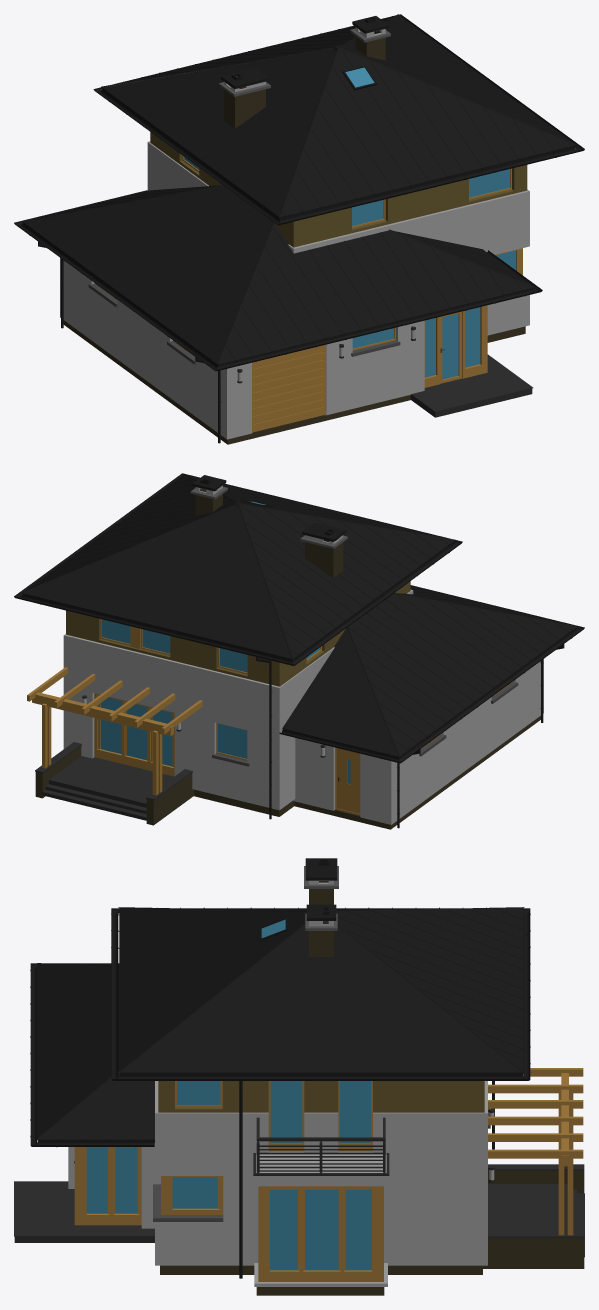
The model's file is Bambo_House.obj.
3 views of the same model, one above another, from view 1: azimuth 30°, elevation 25°; view 2: azimuth 150°, elevation 25°; view 3: azimuth 270°, elevation 25° (orthographic). The views are drawn at different scales.
Parts seen in each view (by area): view 1: roof_roof_metal_dark, body_house_body_house_plaster_white, gutters_gutters_metal_dark, body_house_body_house_wood_balls, garage_garage_wood_light, windows_windows_glass_window, stairs_stairs_plate_grey, fundametnts_fundametnts_foundation_mosaic, windows_windows_wood_light, ridge_ridge_metal_dark, chimneys_chimneys_foundation_mosaic, door_door_glass_window (+4 smaller); view 2: roof_roof_metal_dark, body_house_body_house_plaster_white, gutters_gutters_metal_dark, stairs_stairs_plate_grey, boards_boards_wood_light, body_house_body_house_wood_balls, windows_windows_glass_window, windows_windows_wood_light, door_door_glass_window, fundametnts_fundametnts_foundation_mosaic, wall_barrels_wall_barrels_foundation_mosaic, door_door_wood_light (+5 smaller); view 3: roof_roof_metal_dark, body_house_body_house_plaster_white, windows_windows_glass_window, windows_windows_wood_light, stairs_stairs_plate_grey, gutters_gutters_metal_dark, body_house_body_house_wood_balls, boards_boards_wood_light, wall_barrels_wall_barrels_foundation_mosaic, barrels_barrels_metal_grey, fundametnts_fundametnts_foundation_mosaic, ridge_ridge_metal_dark (+5 smaller).
Part boxes in pixels (<box>): roof_roof_metal_dark: <box>22,15,576,366</box>; body_house_body_house_plaster_white: <box>60,73,529,439</box>; gutters_gutters_metal_dark: <box>14,14,584,443</box>; body_house_body_house_wood_balls: <box>150,132,527,247</box>; garage_garage_wood_light: <box>252,344,325,432</box>; windows_windows_glass_window: <box>184,157,516,377</box>; stairs_stairs_plate_grey: <box>411,354,533,411</box>; fundametnts_fundametnts_foundation_mosaic: <box>63,320,525,444</box>; windows_windows_wood_light: <box>94,156,522,387</box>; ridge_ridge_metal_dark: <box>22,14,576,364</box>; chimneys_chimneys_foundation_mosaic: <box>224,31,385,128</box>; door_door_glass_window: <box>442,313,458,379</box>; roof_roof_metal_dark: <box>21,474,577,758</box>; body_house_body_house_plaster_white: <box>63,589,543,824</box>; gutters_gutters_metal_dark: <box>14,473,584,828</box>; stairs_stairs_plate_grey: <box>42,756,173,820</box>; boards_boards_wood_light: <box>27,667,202,795</box>; body_house_body_house_wood_balls: <box>66,581,410,686</box>; windows_windows_glass_window: <box>102,619,350,784</box>; windows_windows_wood_light: <box>100,619,512,815</box>; door_door_glass_window: <box>100,697,172,766</box>; fundametnts_fundametnts_foundation_mosaic: <box>194,716,540,829</box>; wall_barrels_wall_barrels_foundation_mosaic: <box>35,746,194,825</box>; door_door_wood_light: <box>94,693,174,776</box>; roof_roof_metal_dark: <box>36,907,523,1142</box>; body_house_body_house_plaster_white: <box>68,1081,487,1286</box>; windows_windows_glass_window: <box>86,1081,371,1270</box>; windows_windows_wood_light: <box>74,1081,383,1281</box>; stairs_stairs_plate_grey: <box>14,1181,584,1257</box>; gutters_gutters_metal_dark: <box>30,908,530,1278</box>; body_house_body_house_wood_balls: <box>158,1081,484,1112</box>; boards_boards_wood_light: <box>488,1068,583,1235</box>; wall_barrels_wall_barrels_foundation_mosaic: <box>483,1170,584,1268</box>; barrels_barrels_metal_grey: <box>253,1117,389,1175</box>; fundametnts_fundametnts_foundation_mosaic: <box>160,1265,482,1295</box>; ridge_ridge_metal_dark: <box>36,907,524,1139</box>.
Bounding box in the file's own units: 13.64 × 9 × 14.54.
